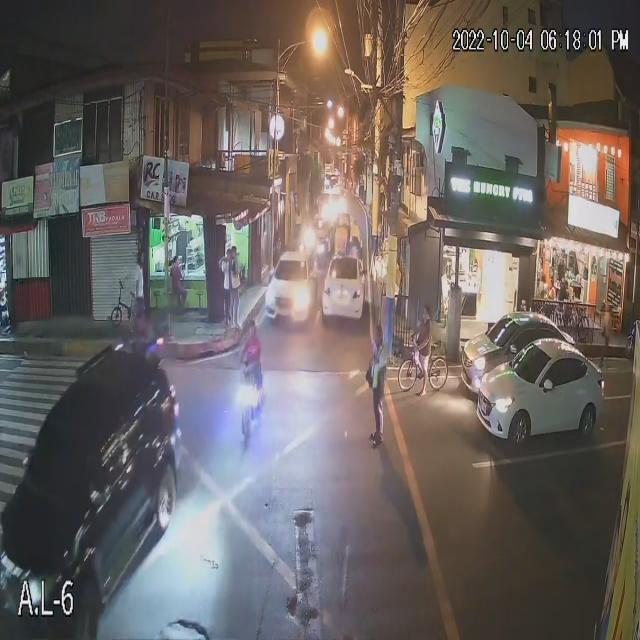motorcycle: (210, 424, 251, 487), (27, 351, 82, 393), (237, 382, 270, 434)
rider: (244, 343, 260, 391)
